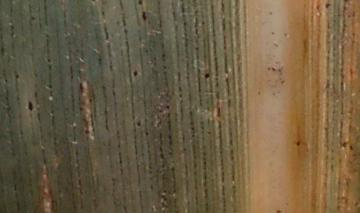tarspot: (26, 100, 35, 111), (202, 71, 211, 80), (141, 10, 147, 22), (135, 118, 142, 128), (78, 81, 84, 92), (341, 138, 347, 148), (83, 128, 90, 136), (324, 2, 332, 9), (87, 96, 94, 103), (14, 72, 20, 80), (77, 106, 85, 112), (137, 1, 144, 7), (295, 140, 301, 147), (133, 69, 138, 77), (166, 104, 170, 110), (349, 144, 353, 150), (146, 131, 150, 136)
